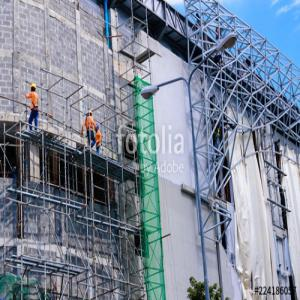blue: (95, 124, 100, 133)
yellow: (31, 84, 37, 94), (88, 111, 94, 118)
